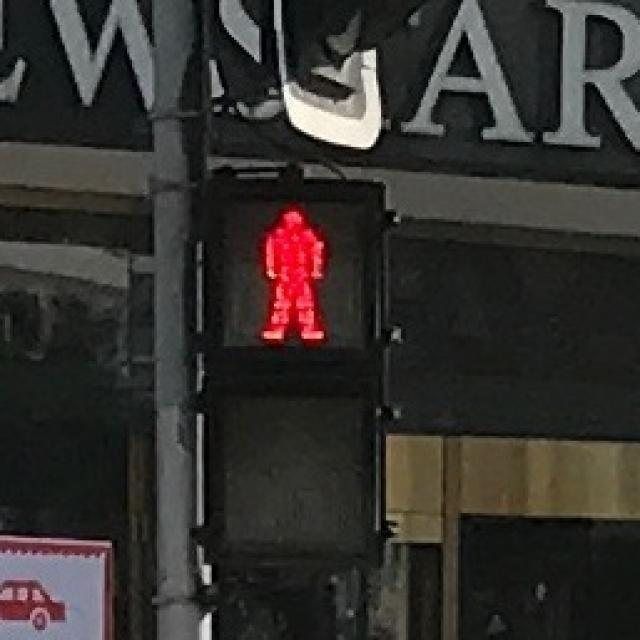red-crossing: (222, 189, 348, 351)
